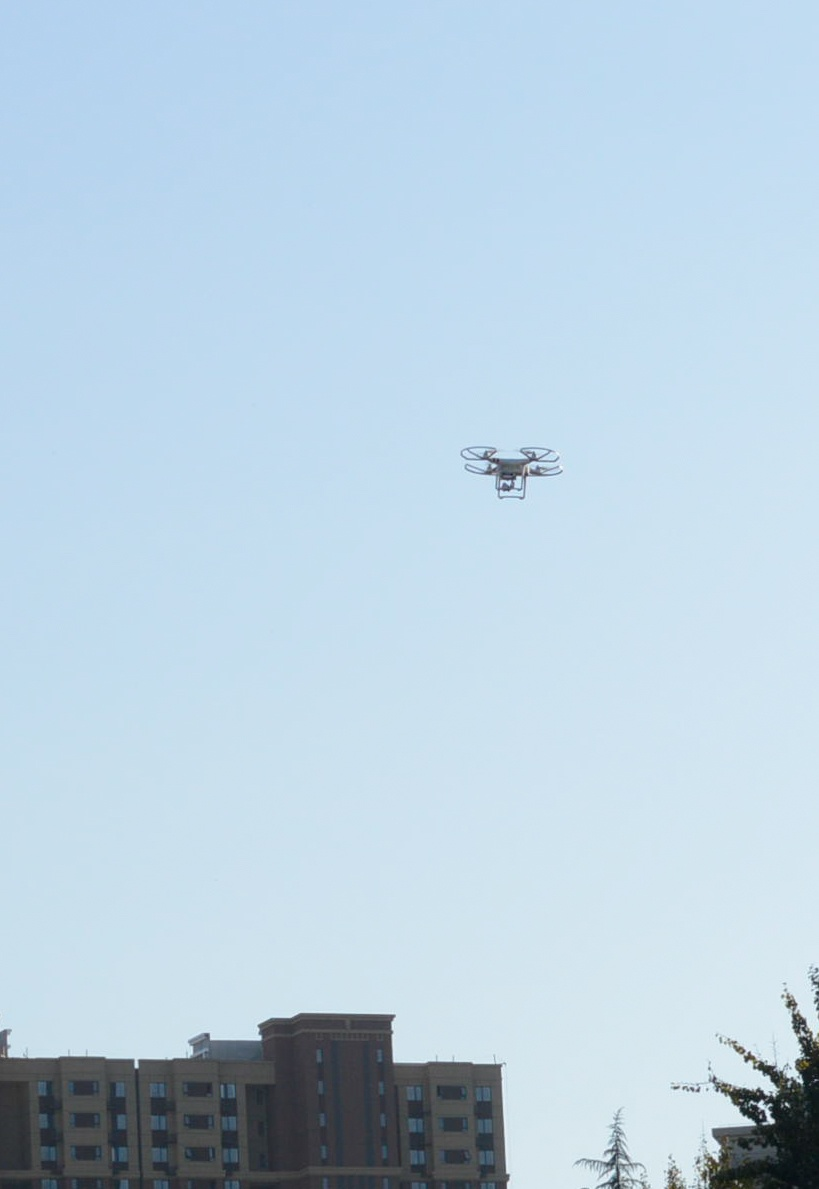DJI: (461, 444, 564, 501)
